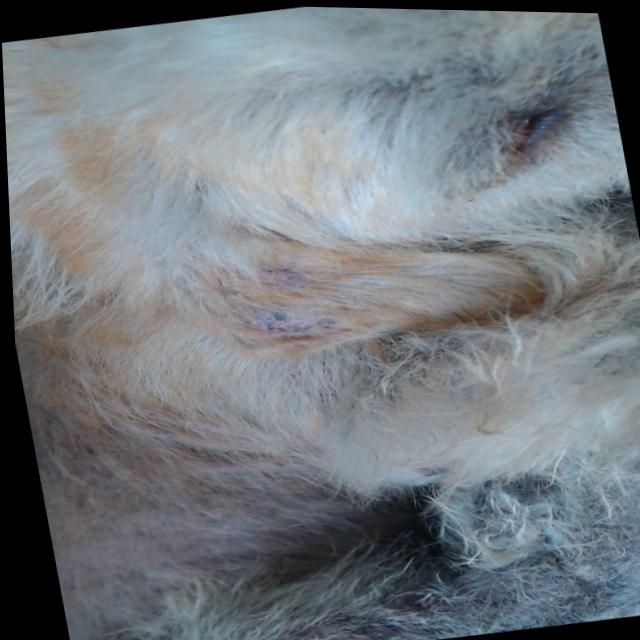demodicosis: (343, 540, 623, 640), (207, 261, 337, 371)
